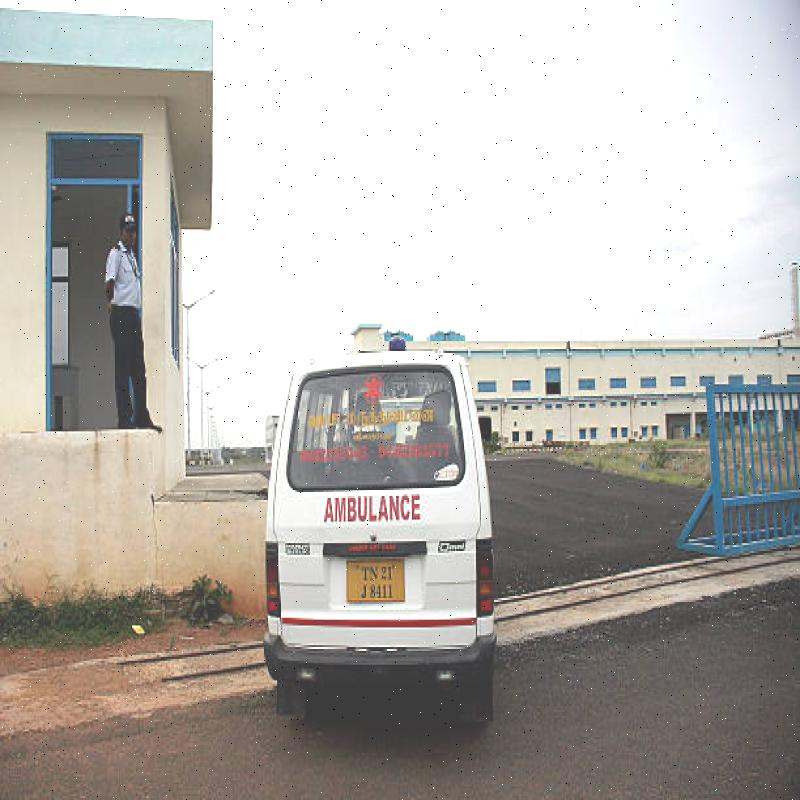ambulance: (267, 340, 501, 716)
